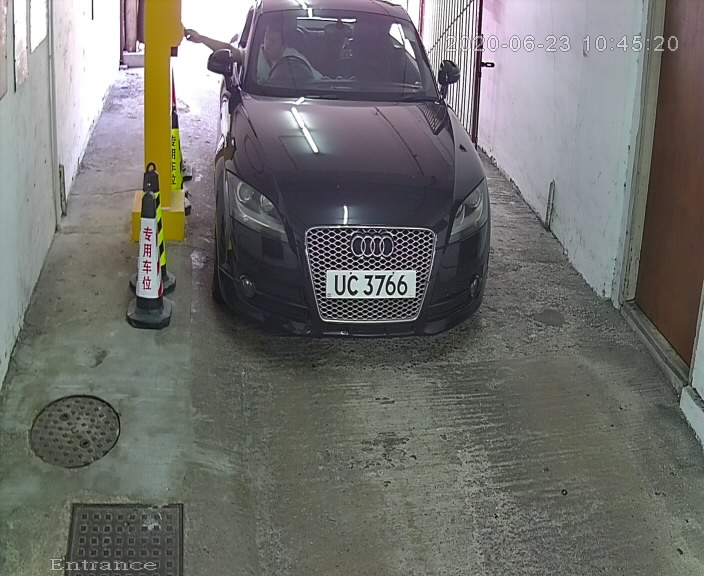privatecar: (197, 3, 494, 353)
